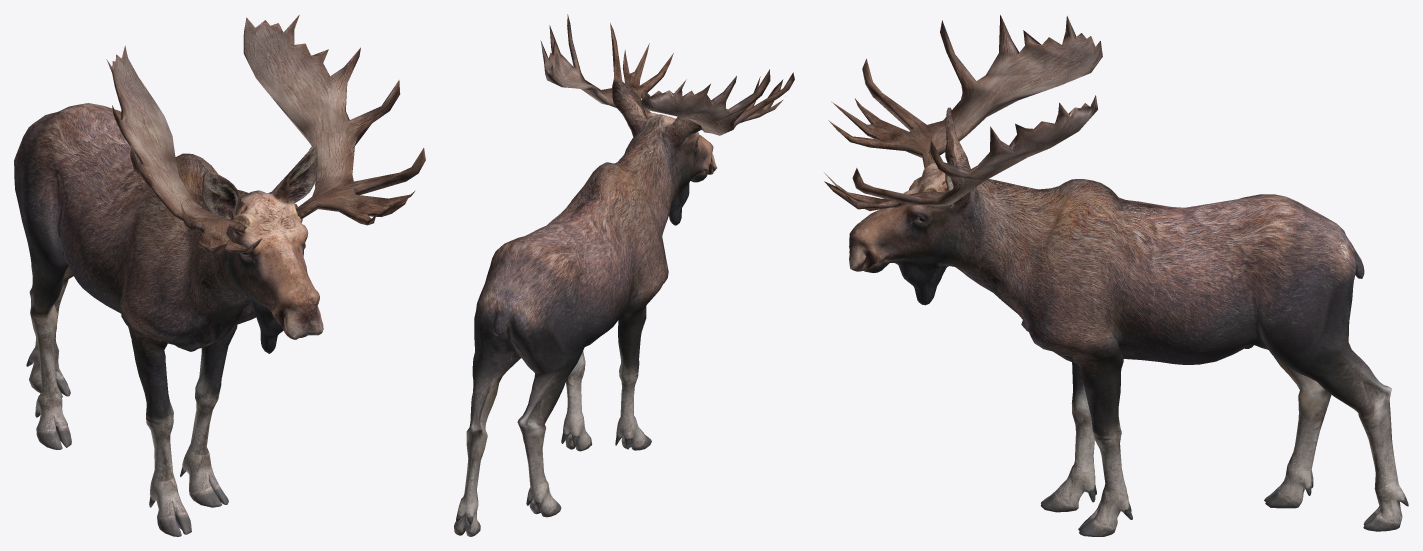
File: a_moose.glb
The picture shows the model from 3 angles, left to right: view 1: azimuth 30°, elevation 25°; view 2: azimuth 150°, elevation 25°; view 3: azimuth 270°, elevation 25°; orthographic projection. The views are drawn at different scales.
Visible parts, largest first — view 1: Goose.003_applied_clean_M_Goose2_0_M_Moose_0, Goose.003_applied_clean_M_Goose2_0_M_Moose_Antler_0; view 2: Goose.003_applied_clean_M_Goose2_0_M_Moose_0, Goose.003_applied_clean_M_Goose2_0_M_Moose_Antler_0; view 3: Goose.003_applied_clean_M_Goose2_0_M_Moose_0, Goose.003_applied_clean_M_Goose2_0_M_Moose_Antler_0.
Boxes of the visible parts, x1,y1,x2,y2 form: Goose.003_applied_clean_M_Goose2_0_M_Moose_0: (14, 103, 323, 536); Goose.003_applied_clean_M_Goose2_0_M_Moose_Antler_0: (106, 15, 425, 254); Goose.003_applied_clean_M_Goose2_0_M_Moose_0: (454, 78, 717, 536); Goose.003_applied_clean_M_Goose2_0_M_Moose_Antler_0: (540, 14, 794, 135); Goose.003_applied_clean_M_Goose2_0_M_Moose_0: (849, 107, 1408, 536); Goose.003_applied_clean_M_Goose2_0_M_Moose_Antler_0: (824, 15, 1102, 210).
Bounding box in the file's own units: 1.39 × 2.43 × 2.79.
Materials: 2 (2 with a texture image).
